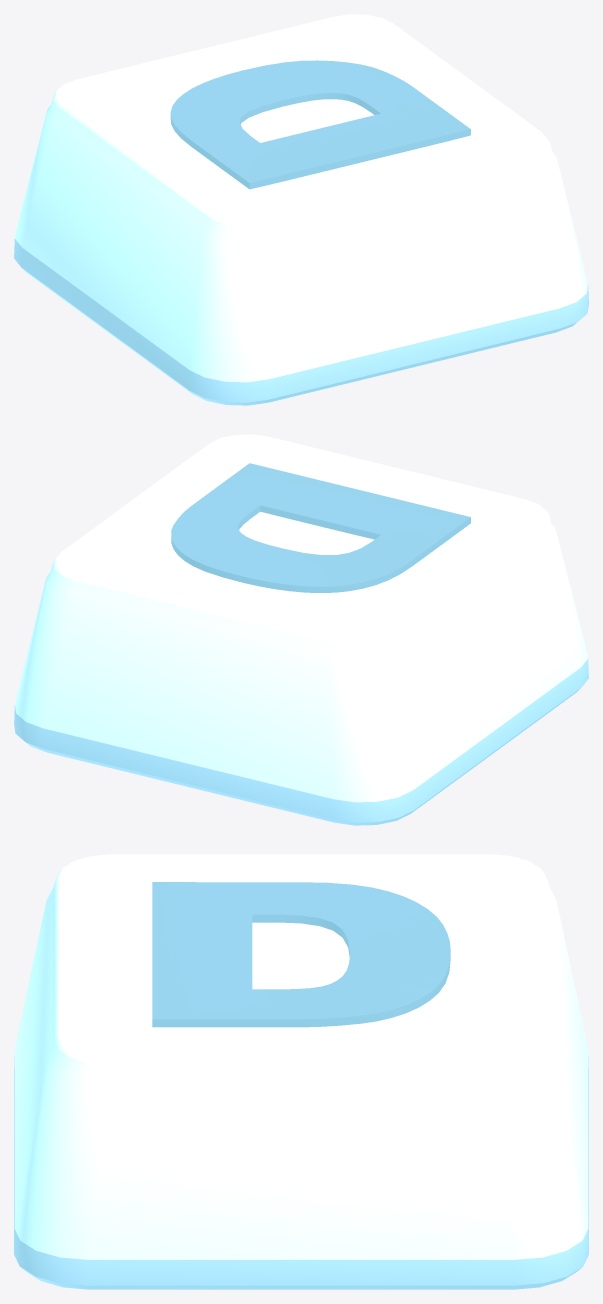
File: props__Key_D.glb
3 renders of one model, top to bottom at view 1: azimuth 30°, elevation 25°; view 2: azimuth 150°, elevation 25°; view 3: azimuth 270°, elevation 25°, orthographic. The views are drawn at different scales.
Visible parts, largest first — view 1: Key_D; view 2: Key_D; view 3: Key_D.
Part boxes in pixels (x1=…): Key_D: x1=14, y1=14, x2=588, y2=405; Key_D: x1=14, y1=434, x2=588, y2=825; Key_D: x1=14, y1=854, x2=588, y2=1289.
Bounding box in the file's own units: 3.9 × 1.65 × 3.9.
